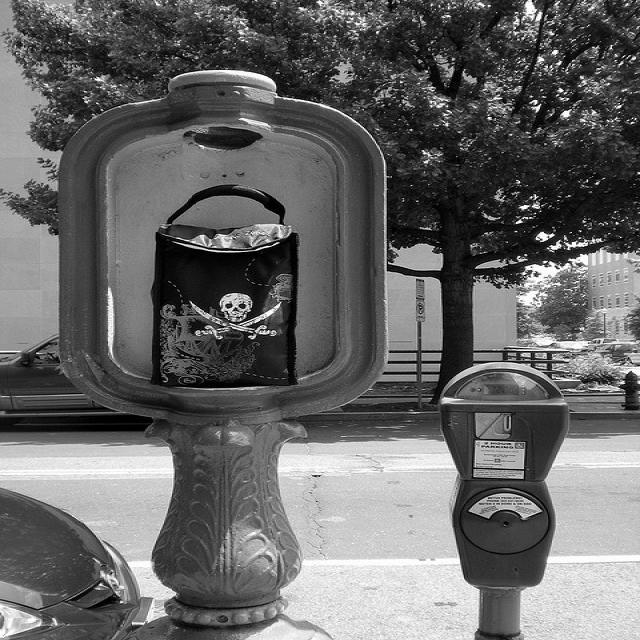car: (0, 485, 155, 638), (0, 331, 135, 427), (584, 341, 633, 359), (582, 336, 614, 346), (552, 341, 583, 349), (530, 336, 554, 346), (622, 347, 638, 362)
fire_hydrant: (617, 369, 639, 409)
